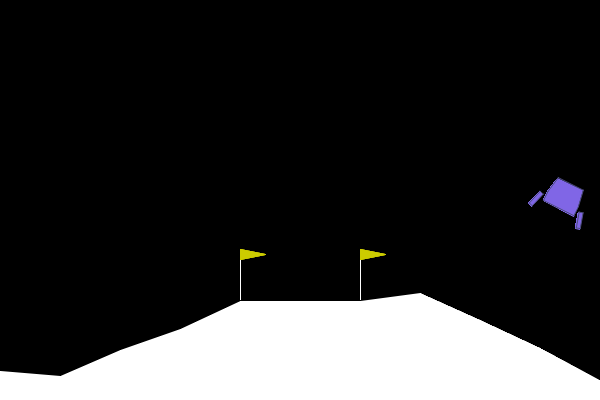lander: (527, 169, 598, 232)
